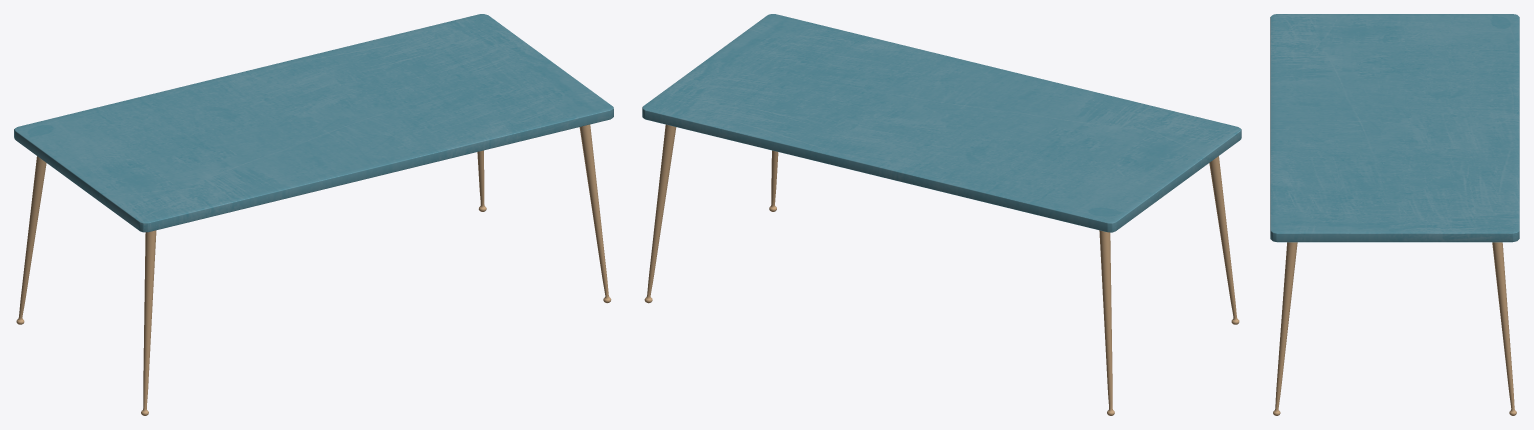
Rendered from table.fbx.
The picture shows the model from 3 angles, left to right: view 1: azimuth 30°, elevation 25°; view 2: azimuth 150°, elevation 25°; view 3: azimuth 270°, elevation 25°; orthographic projection. The views are drawn at different scales.
Parts seen in each view (by area): view 1: table; view 2: table; view 3: table.
Part boxes in pixels (bbox=[...]): table: bbox=[14, 14, 613, 415]; table: bbox=[642, 14, 1241, 415]; table: bbox=[1270, 14, 1519, 415].
Size of the model in its own units: 2.17 by 0.8551 by 1.04.
Materials: 1 (1 with a texture image).
